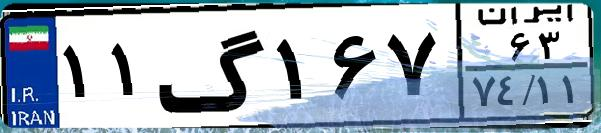1: (270, 28, 330, 110), (57, 26, 110, 100), (110, 28, 156, 98), (560, 70, 590, 125), (535, 70, 560, 125)
3: (537, 27, 568, 80)
4: (495, 70, 520, 125)
6: (330, 28, 385, 110), (508, 27, 537, 80)
7: (385, 28, 445, 110), (470, 70, 495, 125)
گ: (156, 12, 270, 120)
